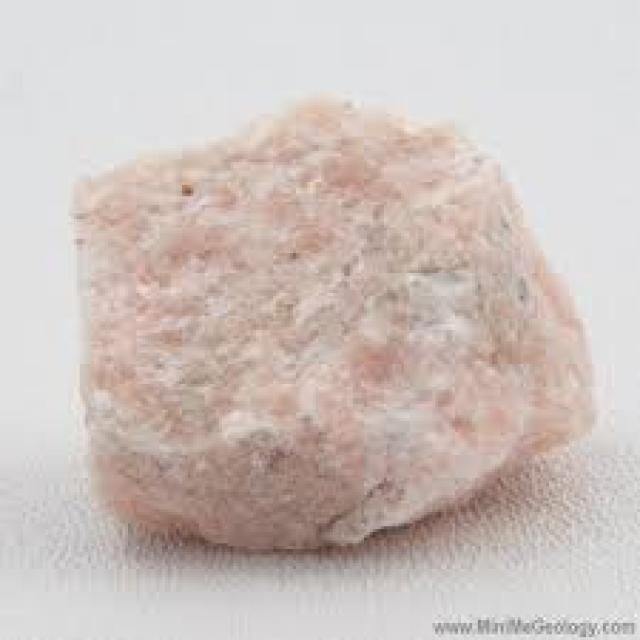Metamorphic: (43, 85, 606, 549)
